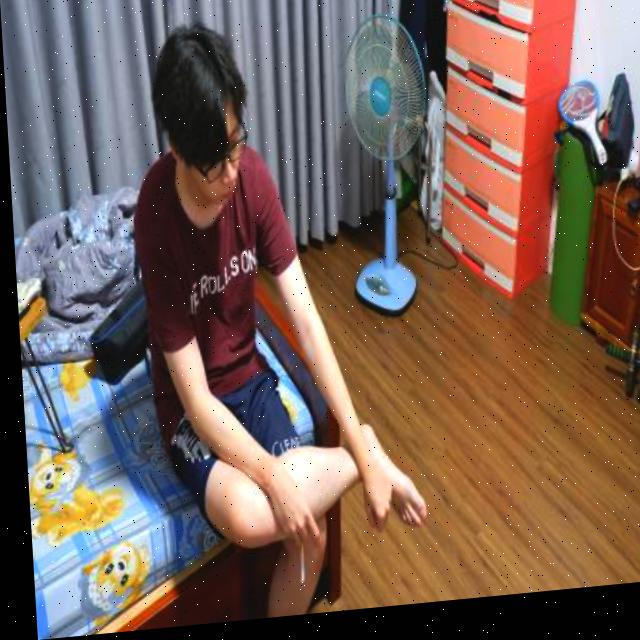cigarette: (291, 543, 300, 590)
